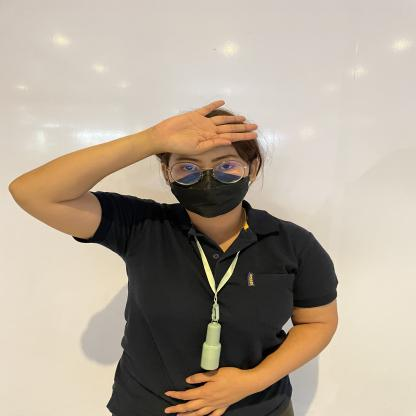Sick: (87, 76, 273, 157)
